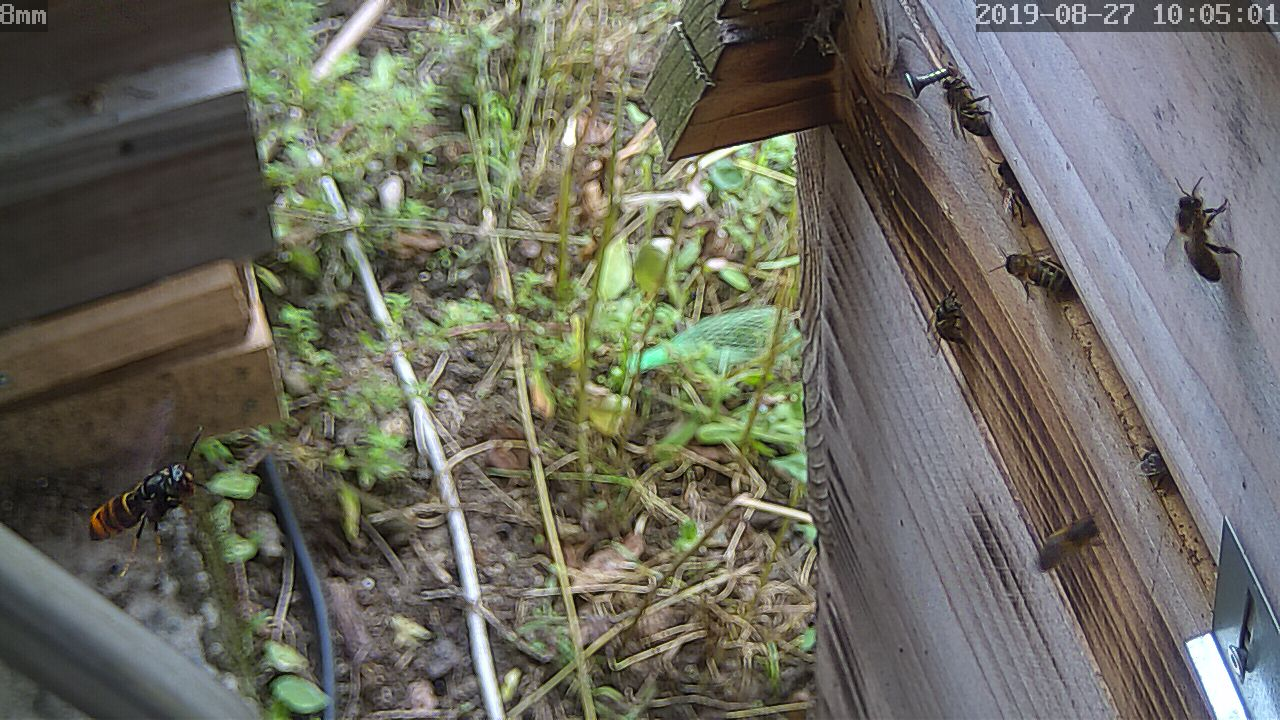bee: (1160, 186, 1237, 284), (1036, 509, 1107, 582), (1000, 248, 1087, 303), (982, 147, 1043, 220), (940, 78, 994, 151), (928, 297, 974, 349)
hornet: (72, 441, 220, 565)
